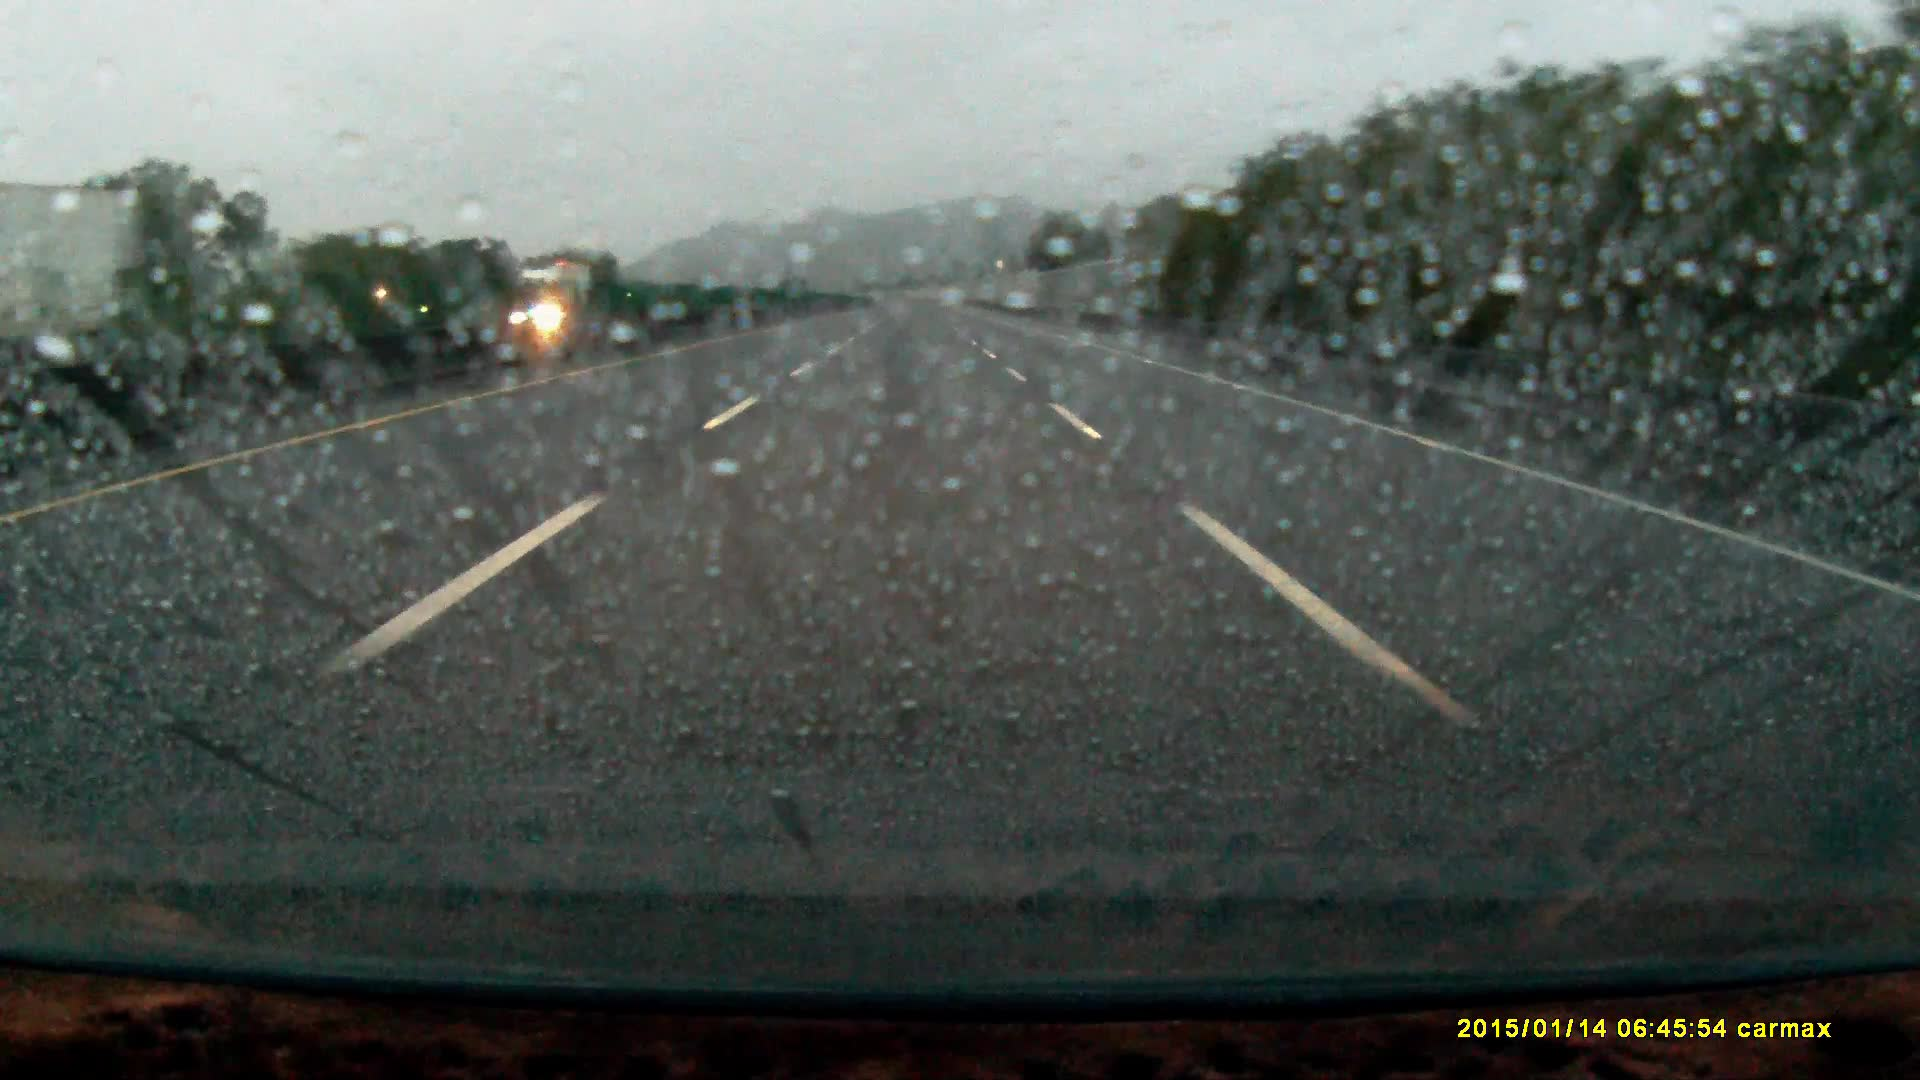vehicle: (1, 181, 142, 357), (516, 262, 596, 331)
